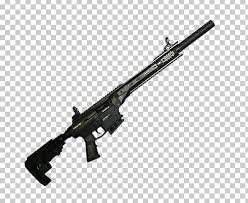gun: (23, 18, 215, 187)
